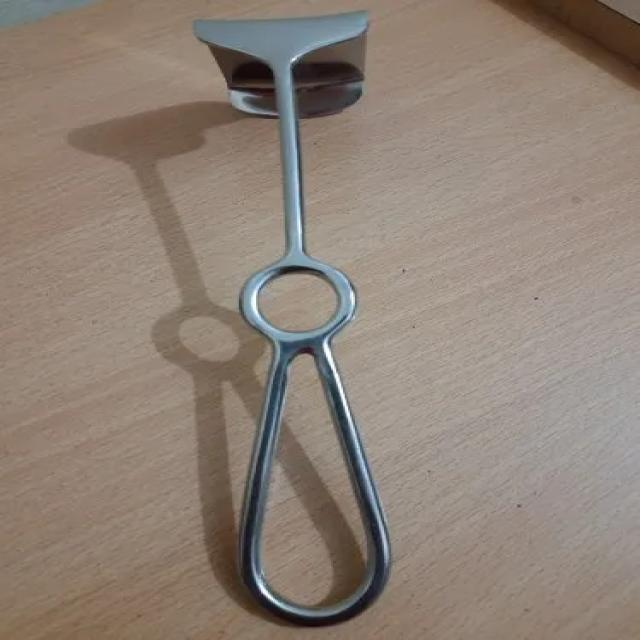Morris Retractor: (182, 11, 426, 628)
